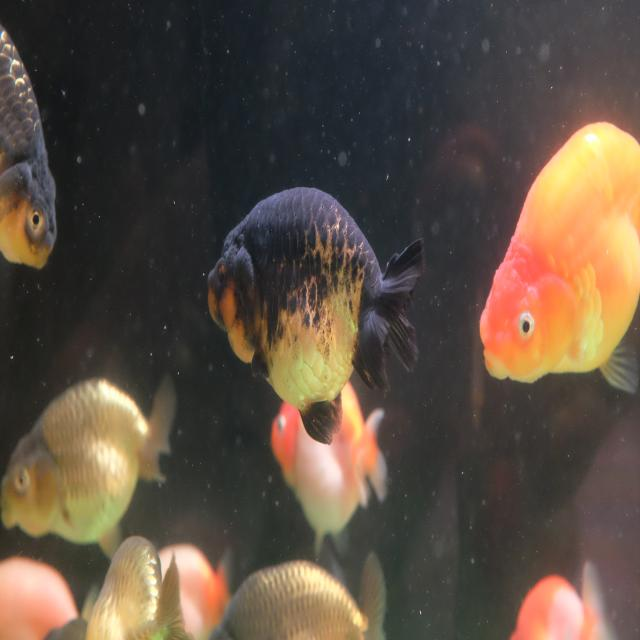Tilapia: (206, 185, 424, 448), (478, 121, 640, 395), (0, 370, 178, 564), (270, 380, 388, 552), (204, 553, 388, 640), (0, 23, 59, 274), (84, 533, 194, 640), (508, 559, 619, 640)
